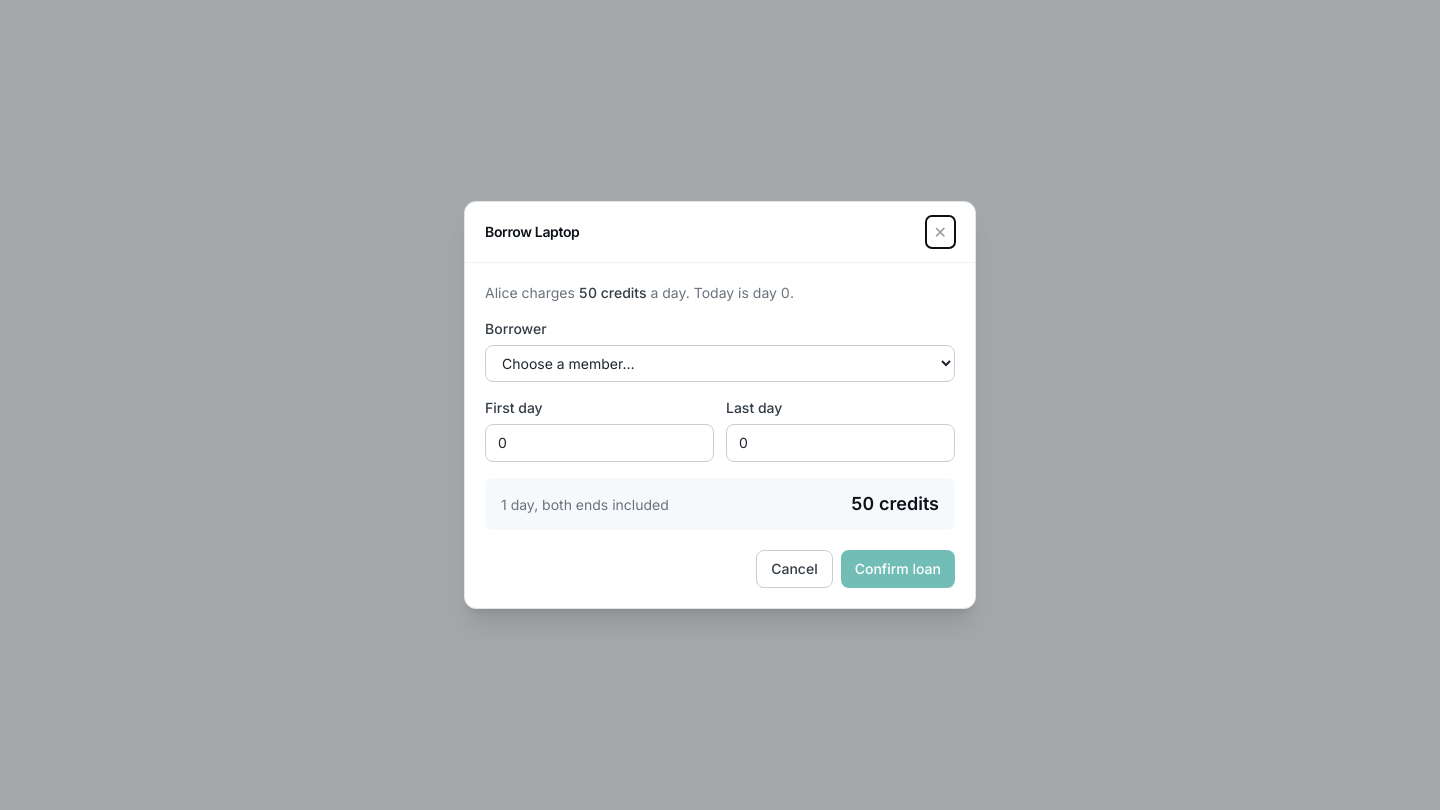
Test case: booking a loan › warns before submitting when the borrower cannot afford it
This screenshot has width=1440, height=810.
Expected: the dropdown labelled "Borrower" is shown, [485,345,955,382]
// Three days at 50 a day is 150, and Bob has 100.
Step 1. Replace the text in the number field labelled "Last day" with "2" → (840, 443), box [726,424,955,462]
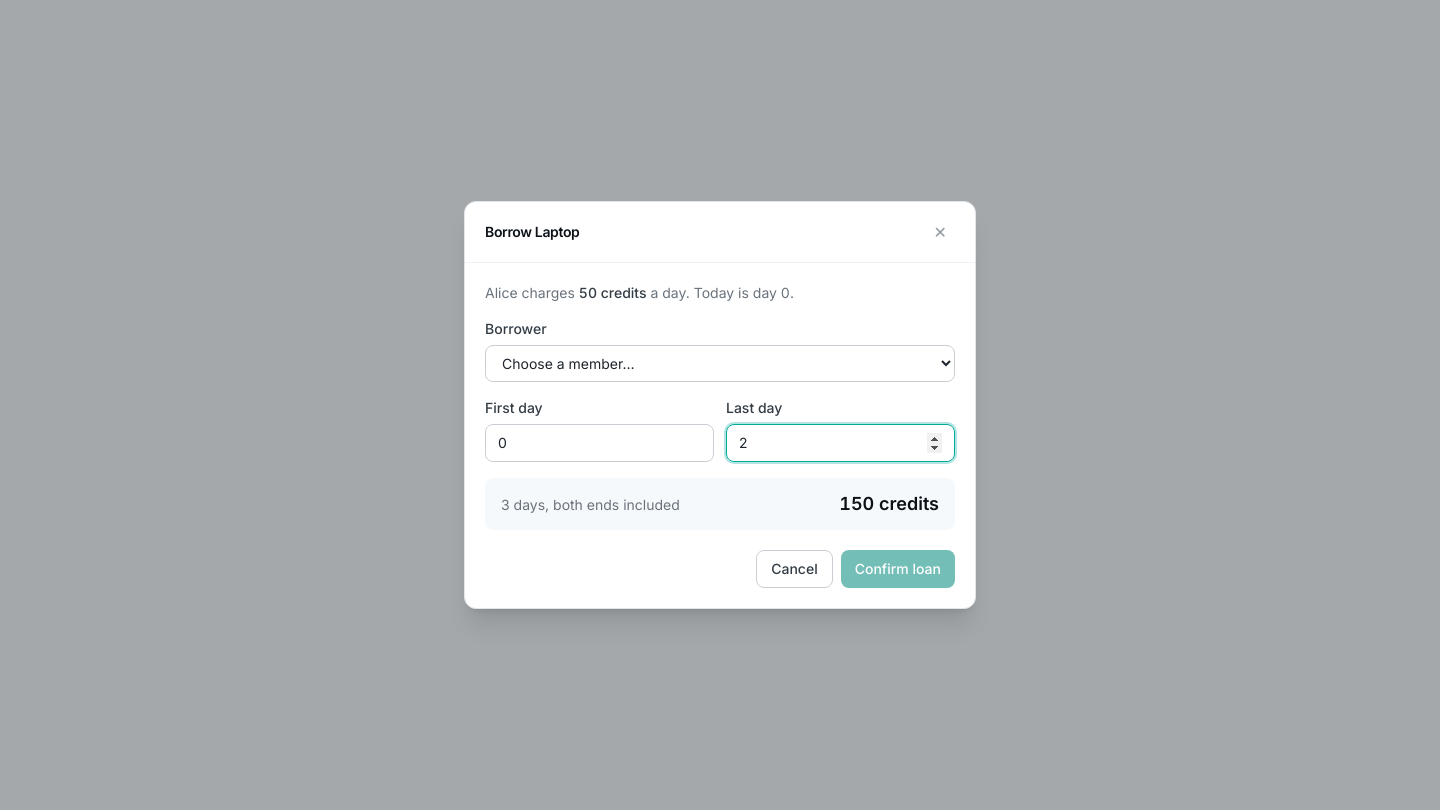
Step 2. Select "Bob — 100 credits" in the dropdown labelled "Borrower" → (720, 364), box [485,345,955,382]
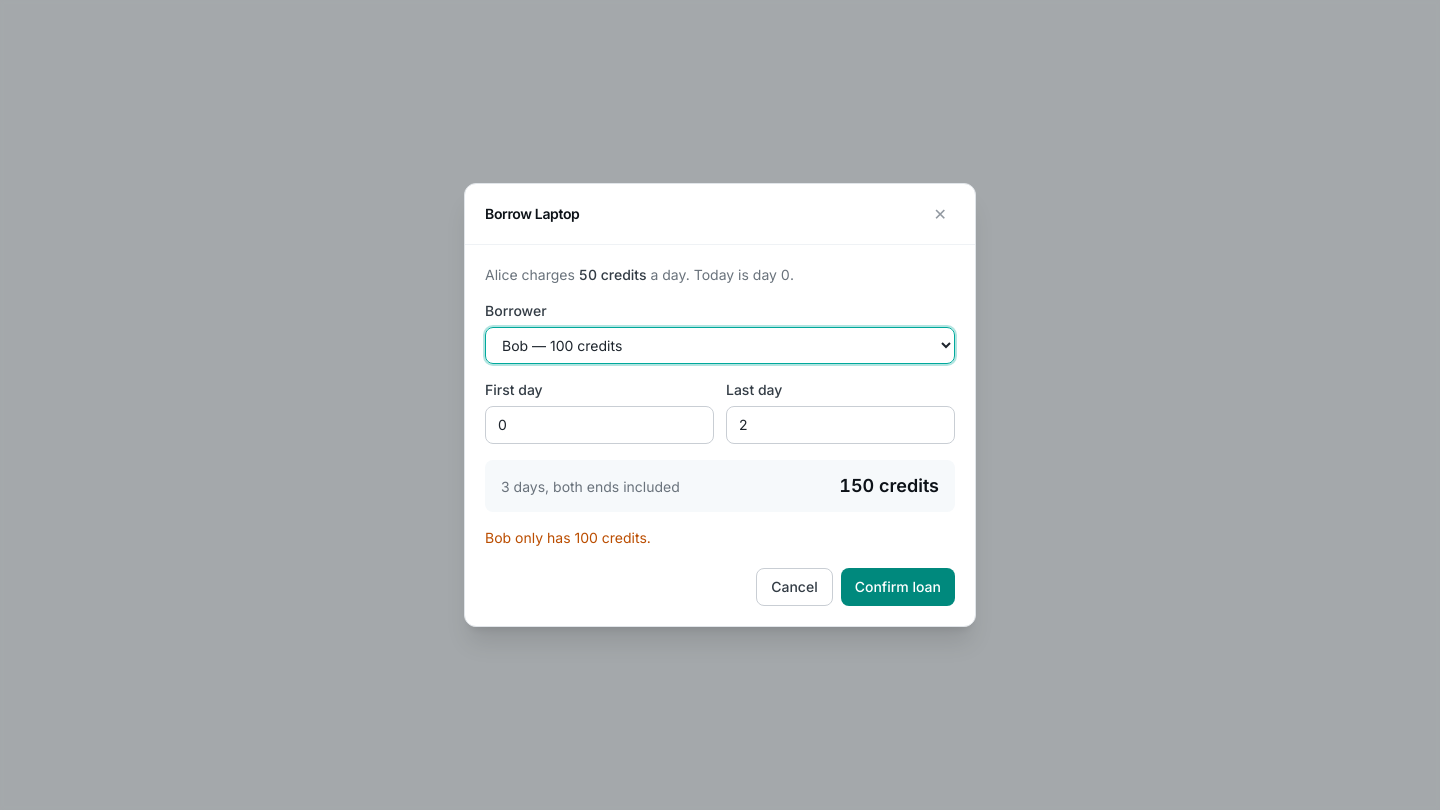
Expected: the text "Bob only has 100 credits." is shown, [485,529,651,546]
